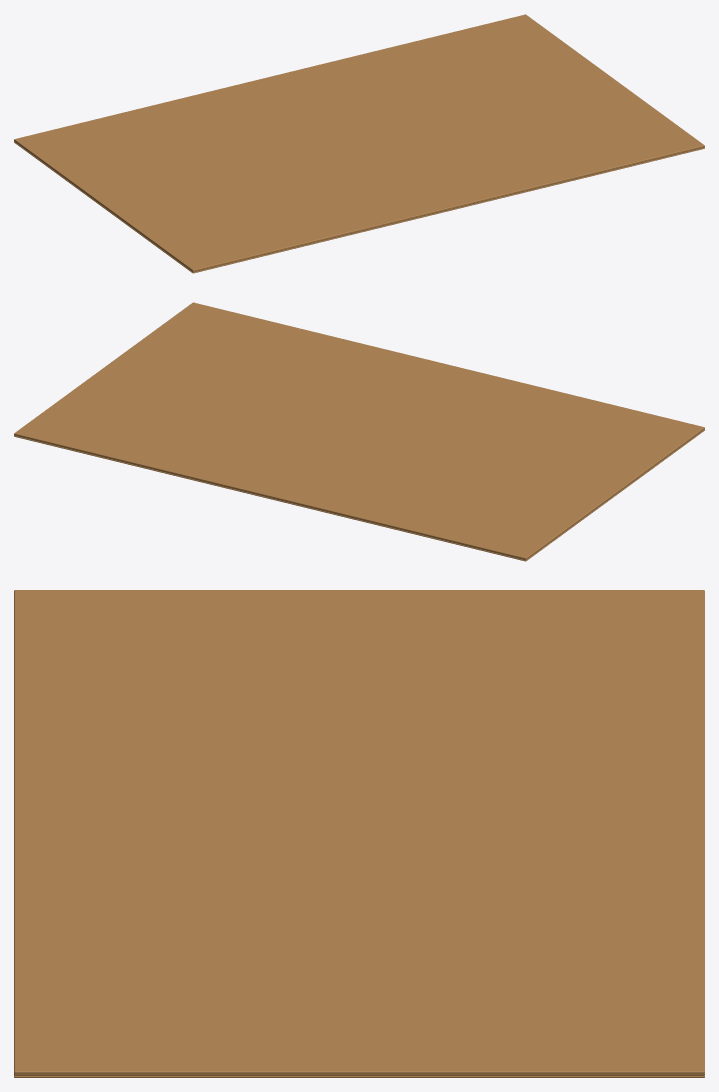
File: table-top.glb
3 views of the same model, one above another, from view 1: azimuth 30°, elevation 25°; view 2: azimuth 150°, elevation 25°; view 3: azimuth 270°, elevation 25° (orthographic). The views are drawn at different scales.
Parts seen in each view (by area): view 1: wood; view 2: wood; view 3: wood.
Part boxes in pixels (x1,y1,x2,y2): wood: (14, 14, 704, 273); wood: (14, 302, 704, 561); wood: (14, 590, 704, 1077).
Size of the model in its own units: 66 by 0.43 by 40.
